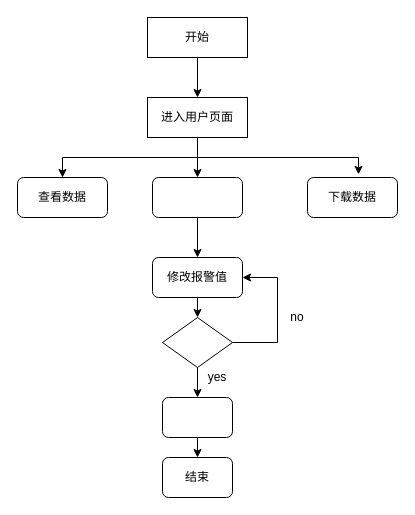
This 415x515 diagram has some shape labels left out. Here are the shapes that lost their labels. From the top down, the box of each, then its label:
(152, 176, 242, 218): 报警值管理
(162, 316, 232, 368): 是否保存
(162, 396, 232, 438): 保存
